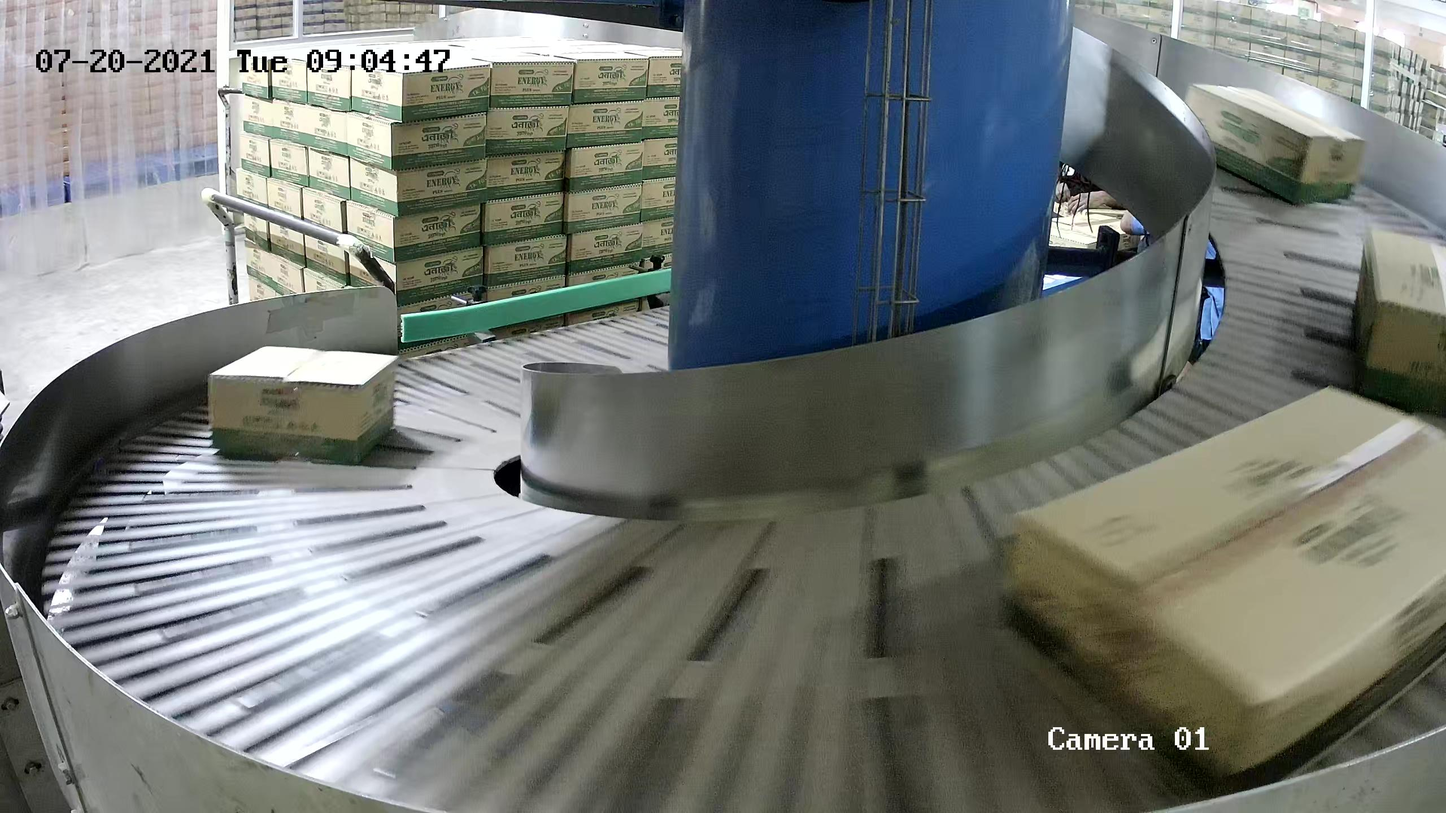Box: (997, 381, 1446, 802), (207, 345, 400, 465), (1184, 82, 1367, 205), (1350, 230, 1446, 411)
